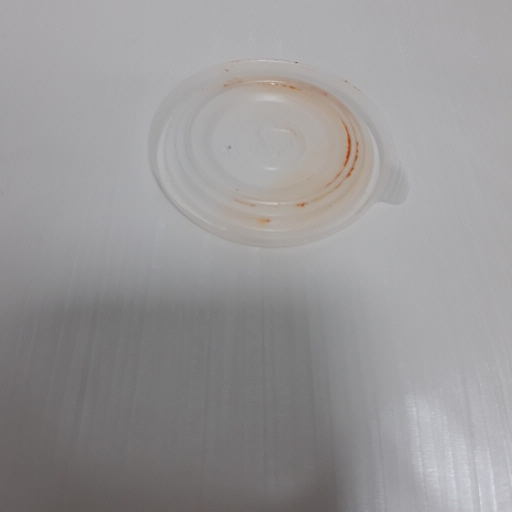Plastic_5: (141, 53, 409, 247)
